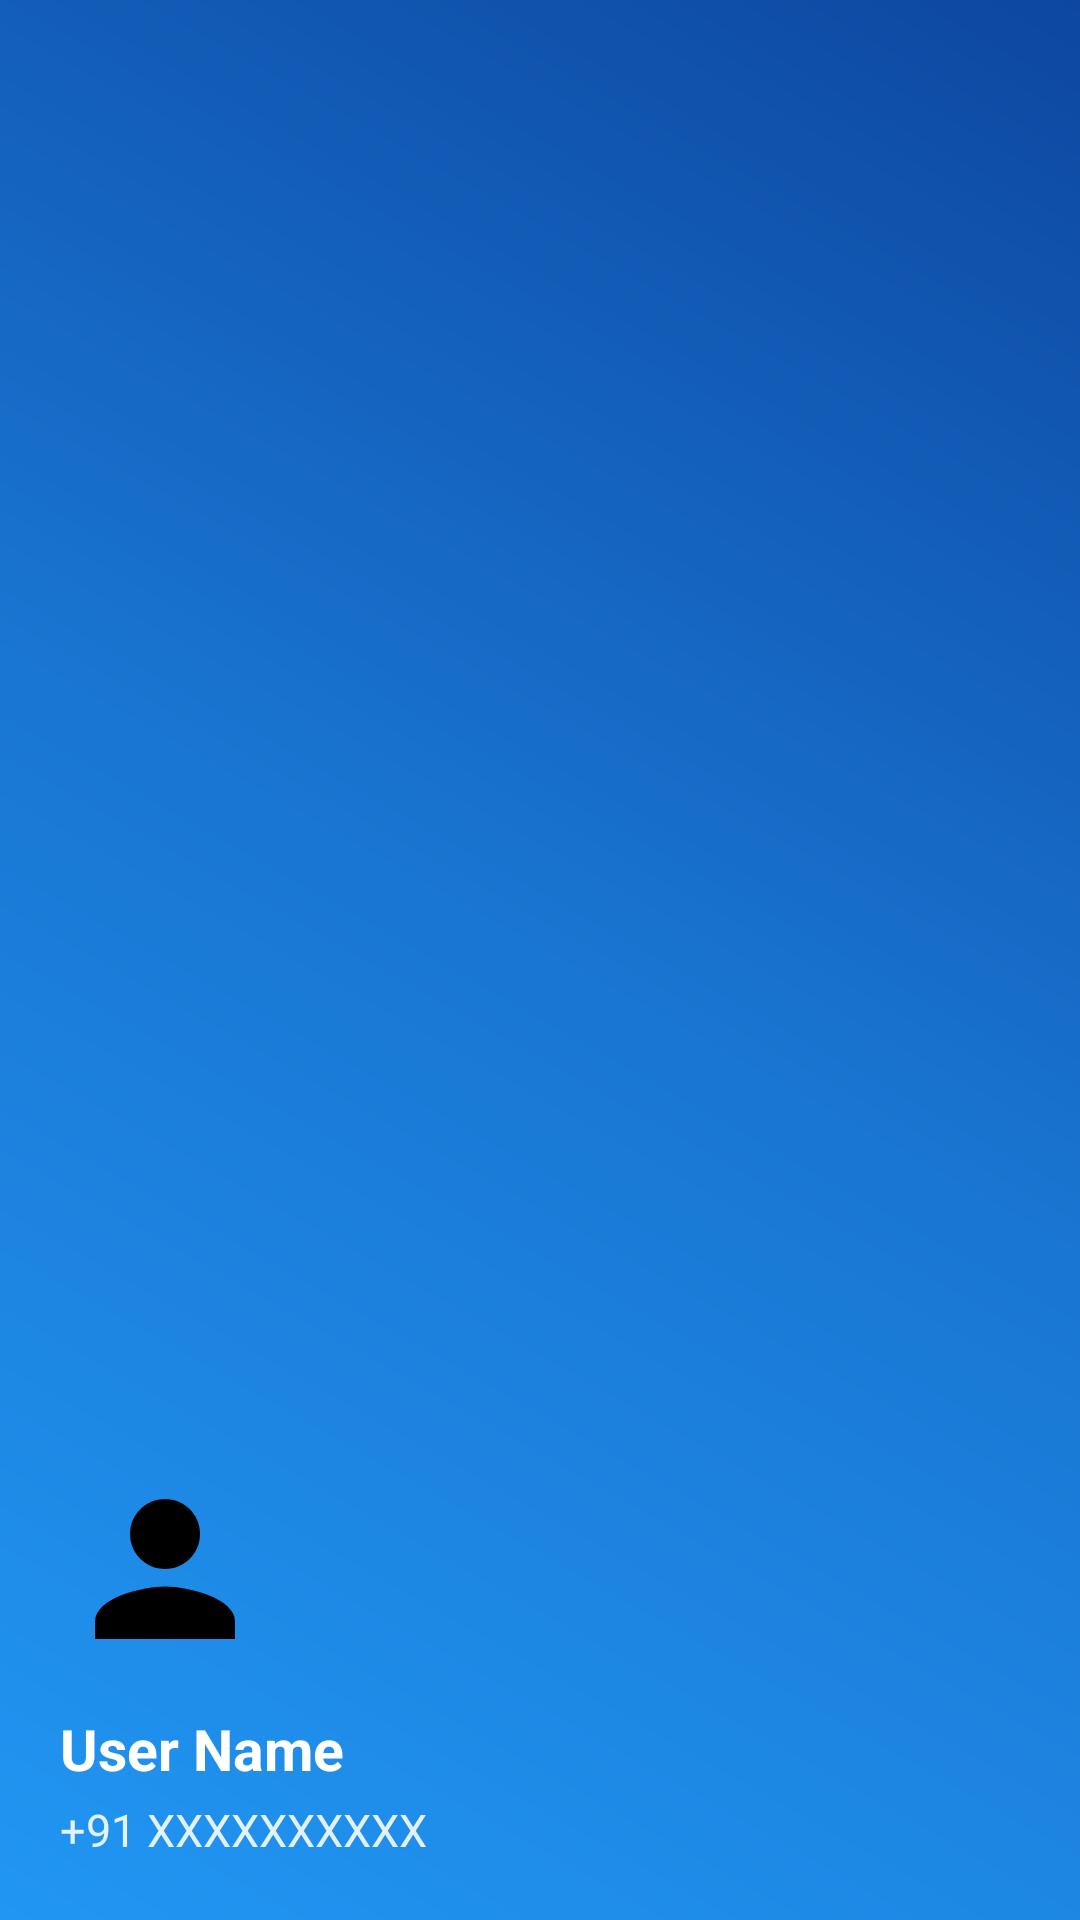

Icons on this 1080px x 1920px Android screen, each with the point to tap as [x,y]:
person: [165,1569]
